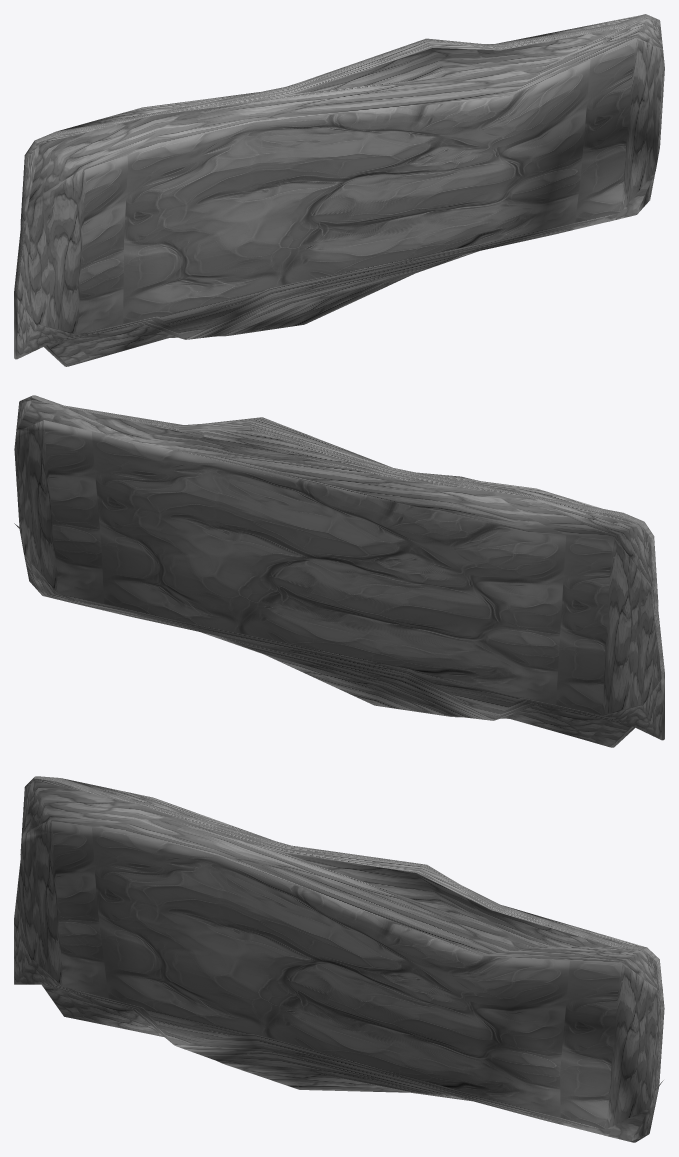
Rendered from Borda_G.FBX.
3 renders of one model, top to bottom at view 1: azimuth 30°, elevation 25°; view 2: azimuth 150°, elevation 25°; view 3: azimuth 330°, elevation 25°, orthographic.
Visible parts, largest first — view 1: Box001; view 2: Box001; view 3: Box001.
Part boxes in pixels (x1=…): Box001: x1=14, y1=14, x2=664, y2=366; Box001: x1=14, y1=395, x2=664, y2=747; Box001: x1=14, y1=776, x2=664, y2=1142.
Bounding box in the file's own units: 8.53 × 3.2 × 0.5833.
1 material, 1 textured.
